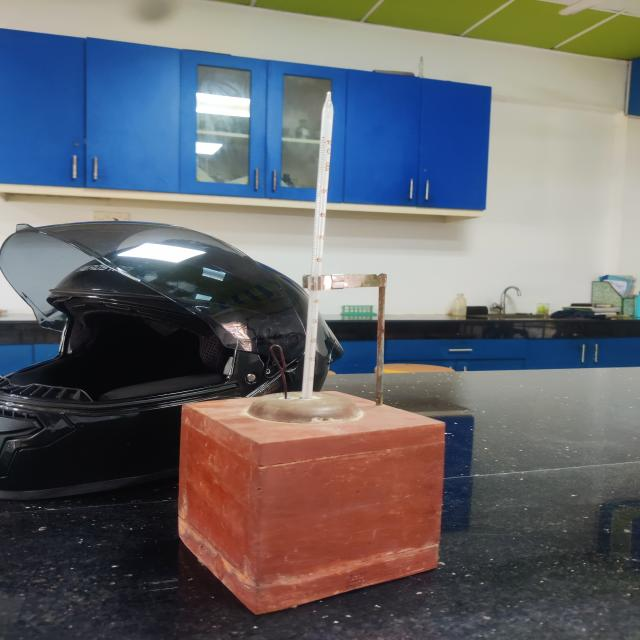Calorimeter: (145, 74, 485, 634)
